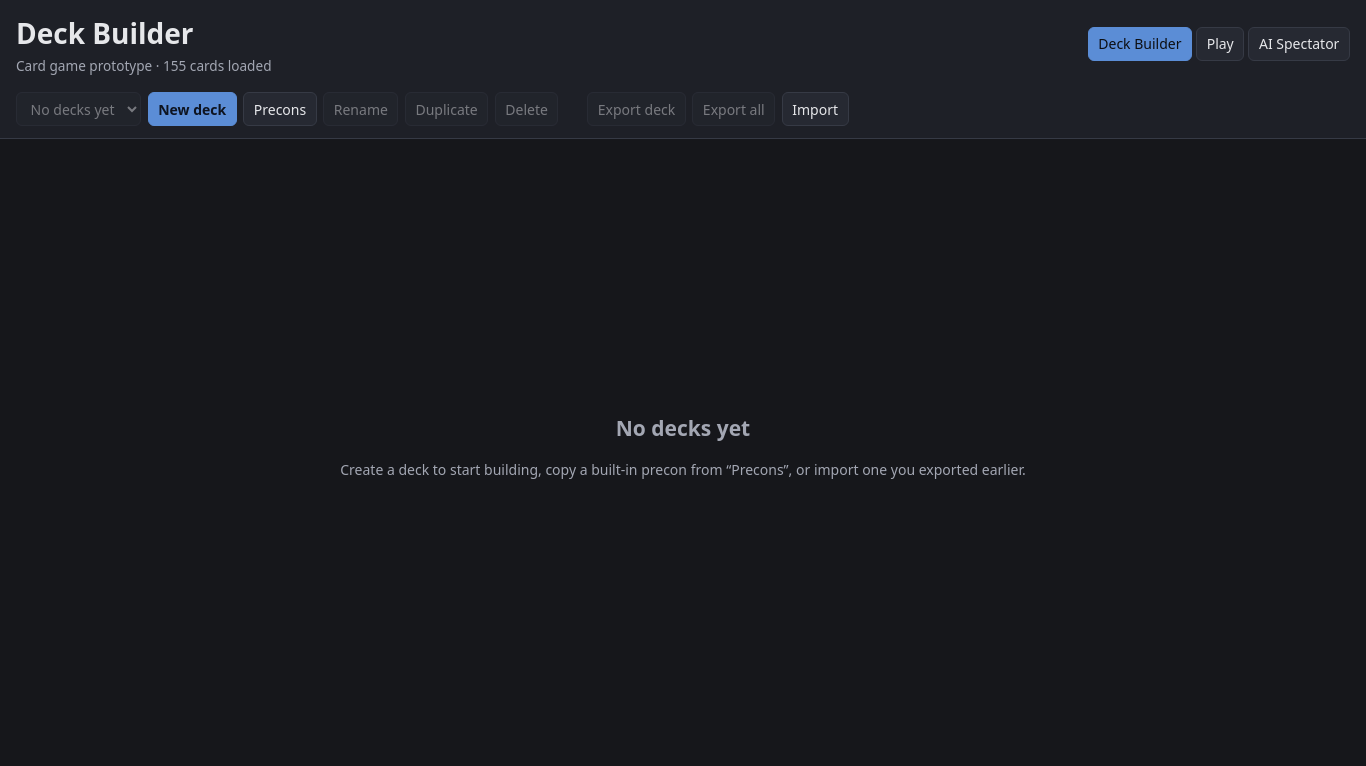
Test case: the mode where the bot chooses › is offered, because the build has a resolver for it
Click the button "Play".
click(1220, 44)  # box [1196, 27, 1244, 61]
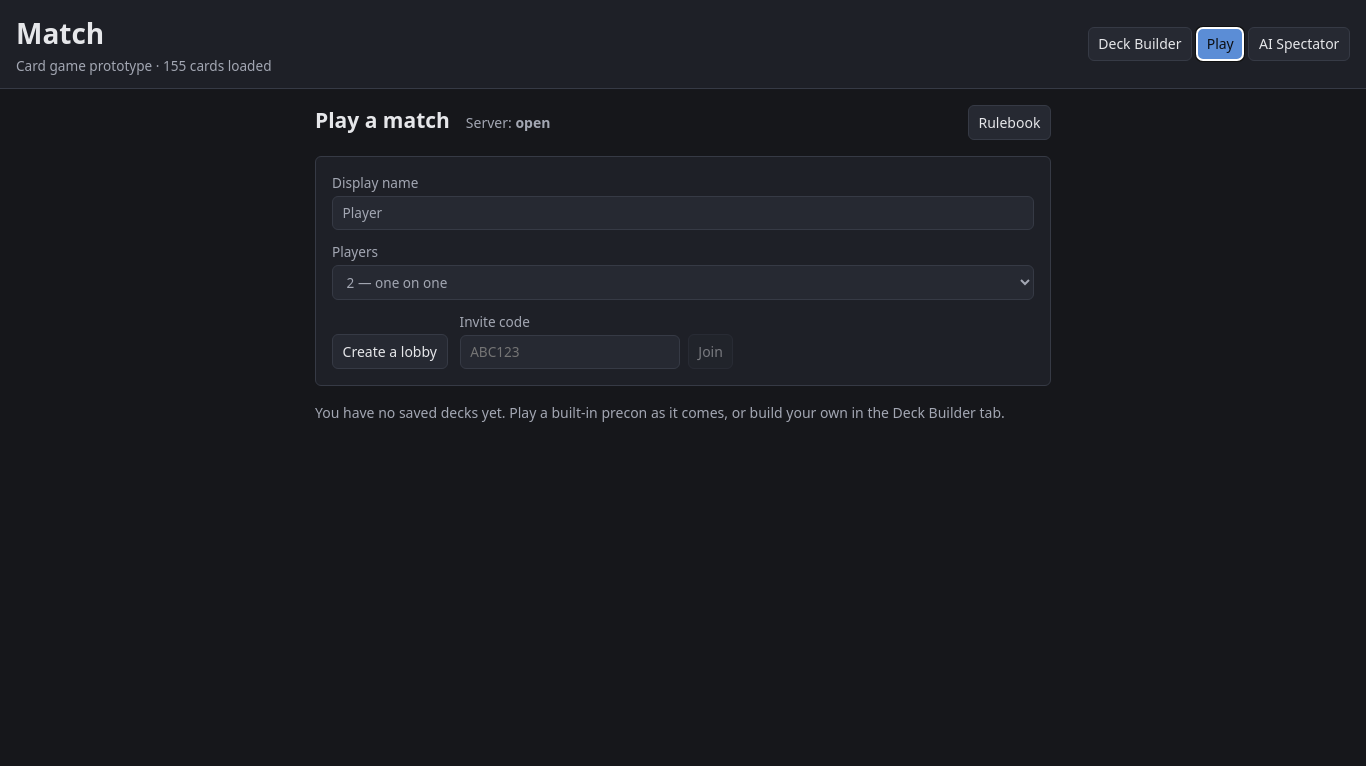
Click the button "Create a lobby".
click(390, 352)  # box [332, 334, 448, 369]
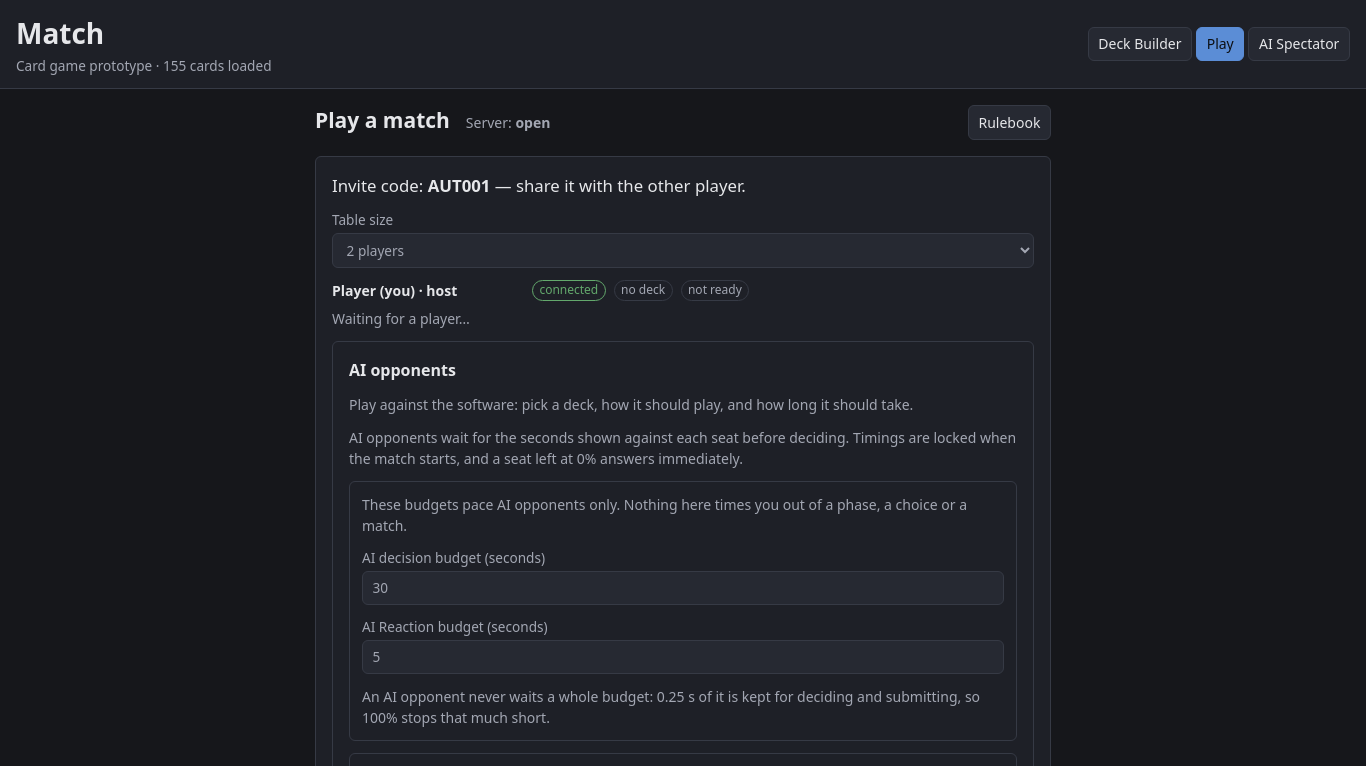
Check: the text "AUT001" is shown, box [428, 174, 490, 197]
